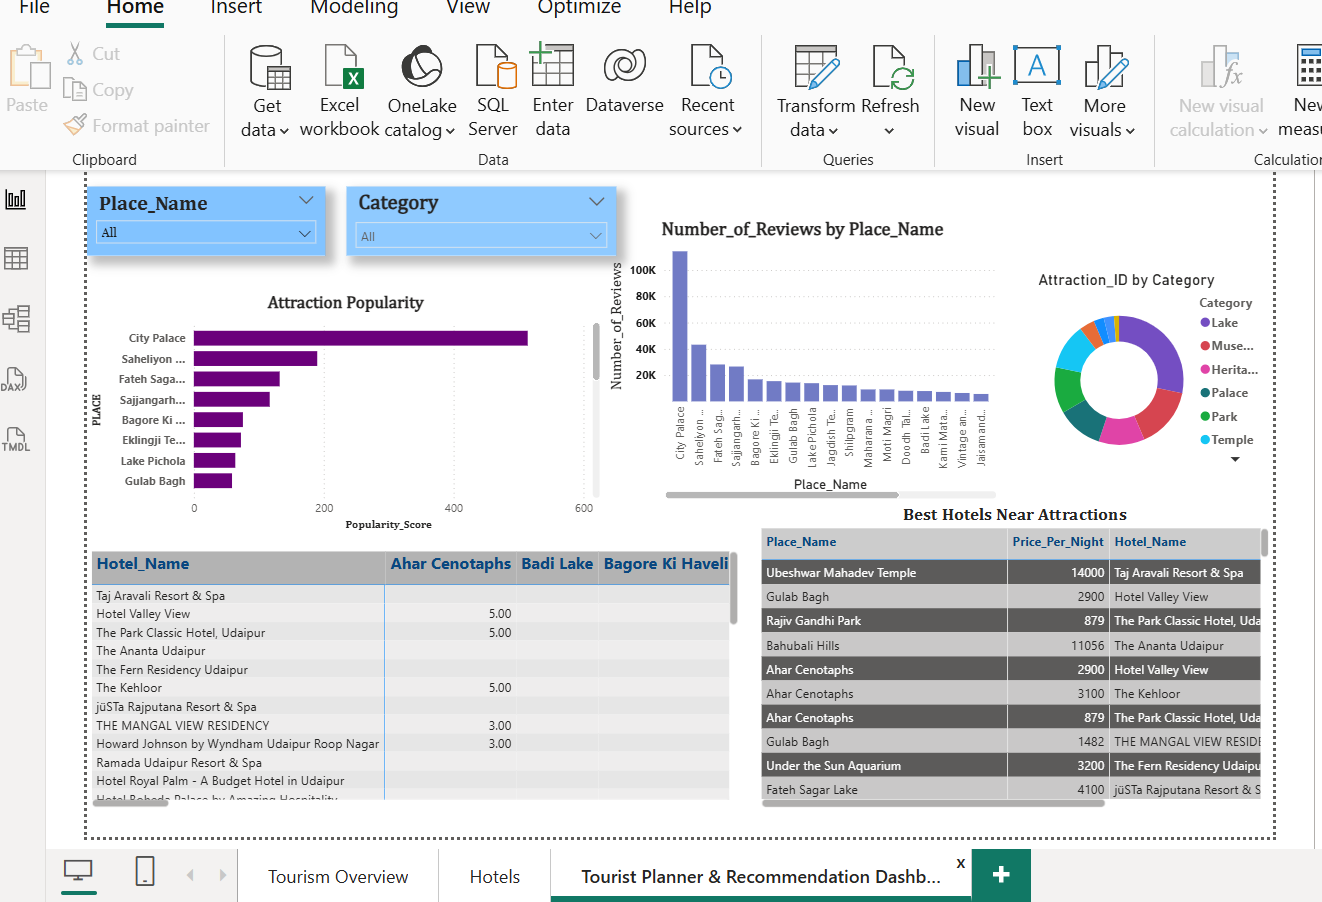

Layout of this report page (visuals, bound fields, positions):
{"tool":"powerbi","page":{"name":"Tourist Planner & Recommendation Dashboard","canvas":[1280,720],"ordinal":2},"visuals":[{"type":"clusteredBarChart","title":"Attraction Popularity ","fields":{"Category":["Attractions.Place_Name"],"Y":["Sum(Attractions.Popularity_Score)"]},"box":[0,132.8,558.6,260.7],"z":0},{"type":"columnChart","fields":{"Category":["Attractions.Place_Name"],"Y":["Sum(Attractions.Number_of_Reviews)"]},"box":[558.6,53.4,427.5,306],"z":1000},{"type":"pivotTable","fields":{"Columns":["Attractions.Place_Name"],"Values":["Sum(Hotel_attraction_mapping.Distance_km)"],"Rows":["Hotels.Hotel_Name"]},"box":[0,406.4,707.6,286.6],"z":2000},{"type":"tableEx","title":"Best Hotels Near Attractions","fields":{"Values":["Attractions.Place_Name","Sum(Hotels.Price_Per_Night)","Hotels.Hotel_Name","Sum(Hotel_attraction_mapping.Distance_km)"]},"box":[722.2,359.5,558.6,333.6],"z":3000},{"type":"donutChart","fields":{"Category":["Attractions.Category"],"Y":["CountNonNull(Hotel_attraction_mapping.Attraction_ID)"]},"box":[1021.7,108.5,259.1,217],"z":3001},{"type":"slicer","fields":{"Values":["Attractions.Place_Name"]},"box":[0,17.8,257.5,74.5],"z":3002},{"type":"slicer","fields":{"Values":["Attractions.Category"]},"box":[280.1,17.8,291.5,74.5],"z":3003}]}

Visuals, with their boxes on the page's 1280x720 design canvas (x1, y1, x2, y2). These are canvas units, not pixel positions in the 1322x902 screenshot, which may show the page scaled, cropped or inside an application window:
"Attraction Popularity " clusteredBarChart: x1=0, y1=133, x2=559, y2=394
columnChart - Attractions.Place_Name x Sum(Attractions.Number_of_Reviews): x1=559, y1=53, x2=986, y2=359
pivotTable - Attractions.Place_Name x Sum(Hotel_attraction_mapping.Distance_km): x1=0, y1=406, x2=708, y2=693
"Best Hotels Near Attractions" tableEx: x1=722, y1=360, x2=1281, y2=693
donutChart - Attractions.Category x CountNonNull(Hotel_attraction_mapping.Attraction_ID): x1=1022, y1=108, x2=1281, y2=326
slicer - Attractions.Place_Name: x1=0, y1=18, x2=258, y2=92
slicer - Attractions.Category: x1=280, y1=18, x2=572, y2=92
